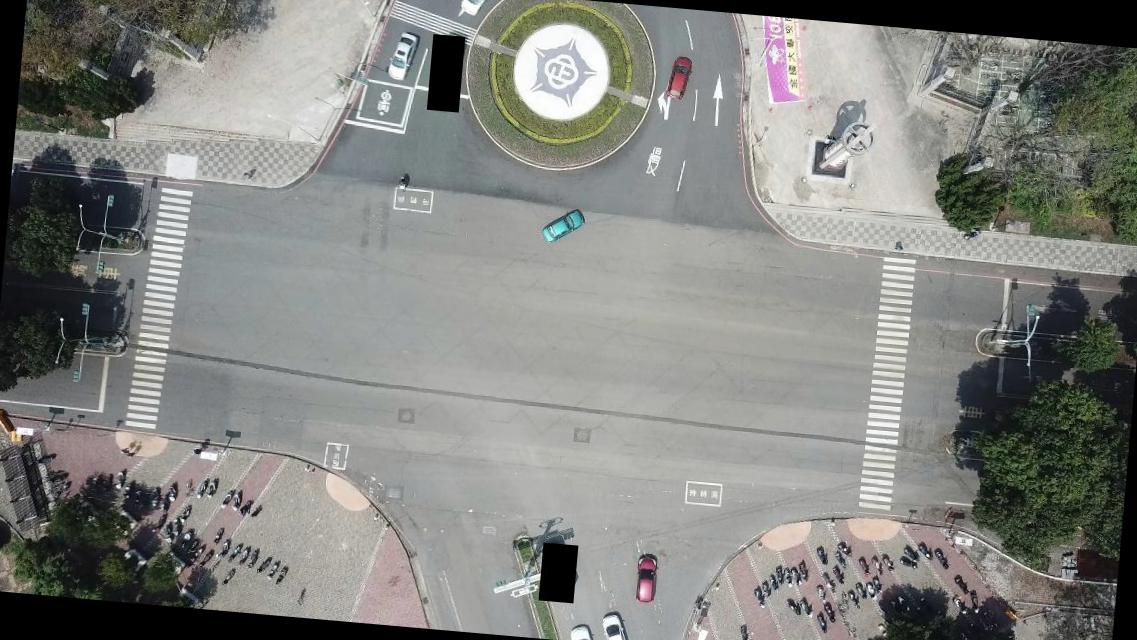vehicle: (540, 207, 586, 246), (386, 30, 418, 80), (665, 56, 692, 100), (634, 556, 656, 603), (599, 613, 629, 639), (459, 0, 490, 18), (569, 624, 594, 639)
